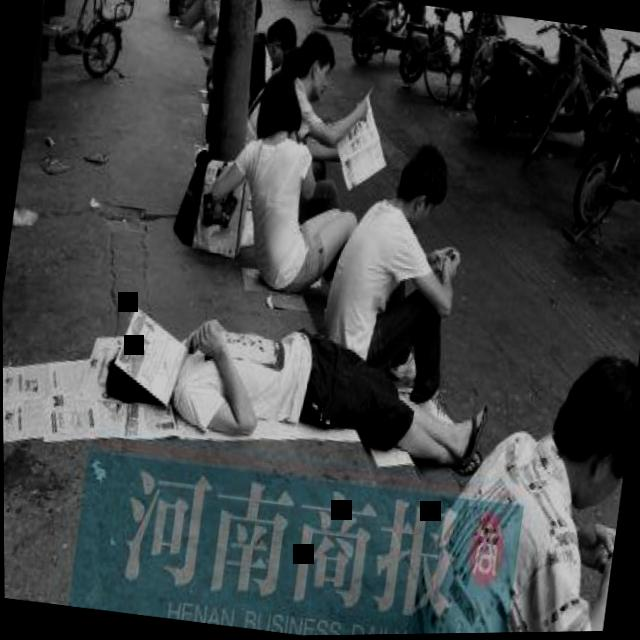Fall-Detected: (144, 292, 488, 482)
